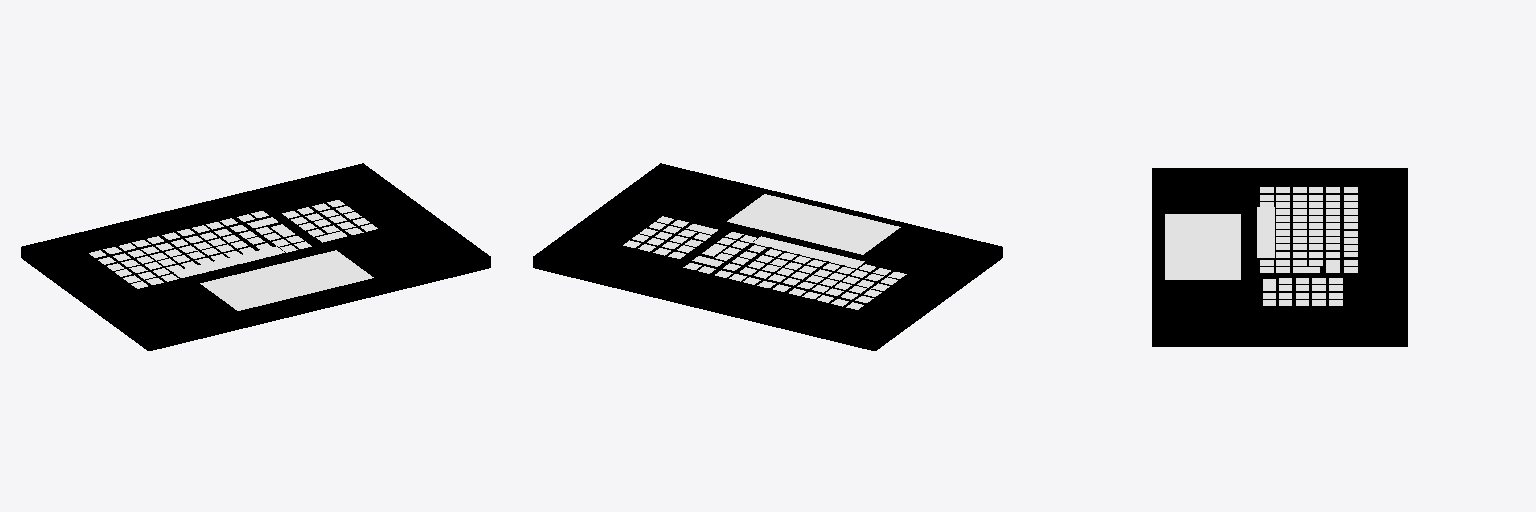
3 renders of one model, left to right at view 1: azimuth 30°, elevation 25°; view 2: azimuth 150°, elevation 25°; view 3: azimuth 270°, elevation 25°, orthographic.
Parts seen in each view (by area): view 1: pPlane114; view 2: pPlane114; view 3: pPlane114.
Part boxes in pixels (left/top/right/bottom): pPlane114: left=21, top=163, right=490, bottom=350; pPlane114: left=533, top=163, right=1002, bottom=350; pPlane114: left=1152, top=168, right=1407, bottom=346.
Size of the model in its own units: 1.11 by 0.0438 by 0.7175.
Materials: 2 (1 with a texture image).